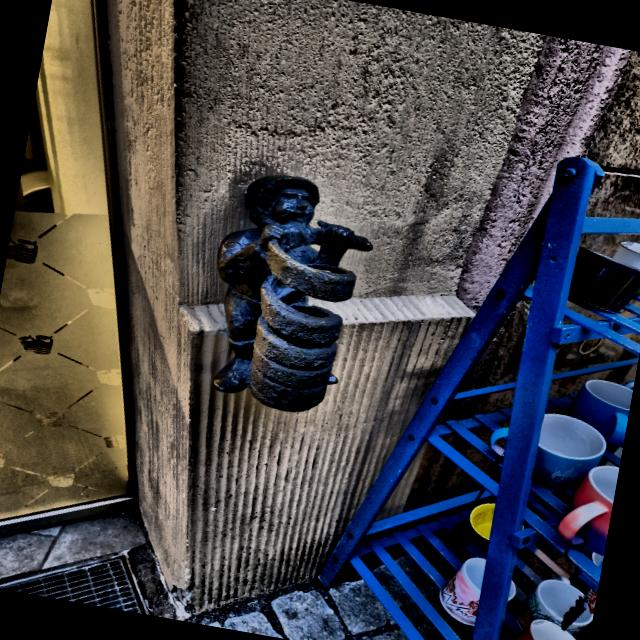Czimnejek: (185, 159, 395, 428)
